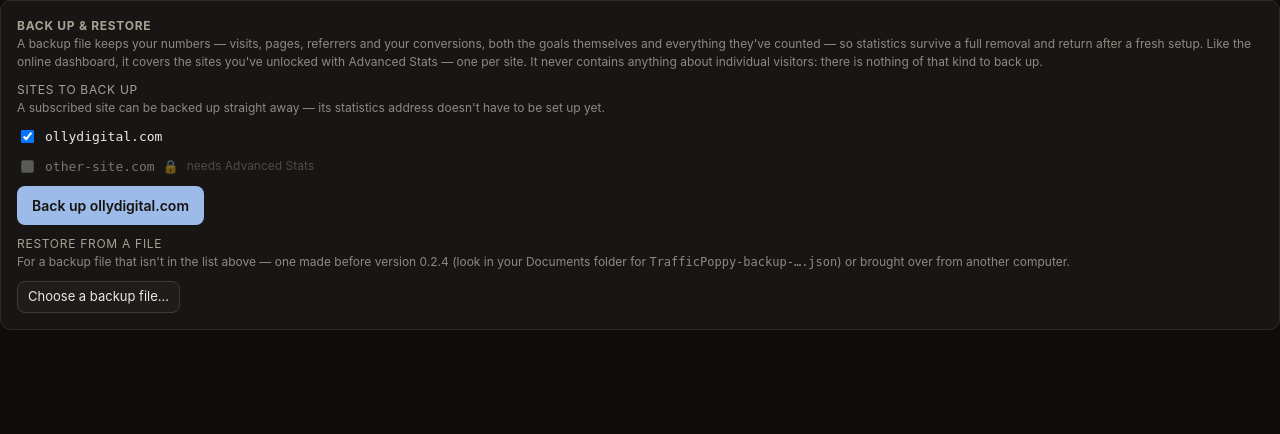
Test: Back up & restore › shows the saved path with a copy button
What coordinates should you click on to do the following:
click the button "Back up ollydigital.com"
I would click on:
 (110, 206)
Its box is top-left (17, 186), bottom-right (204, 225).
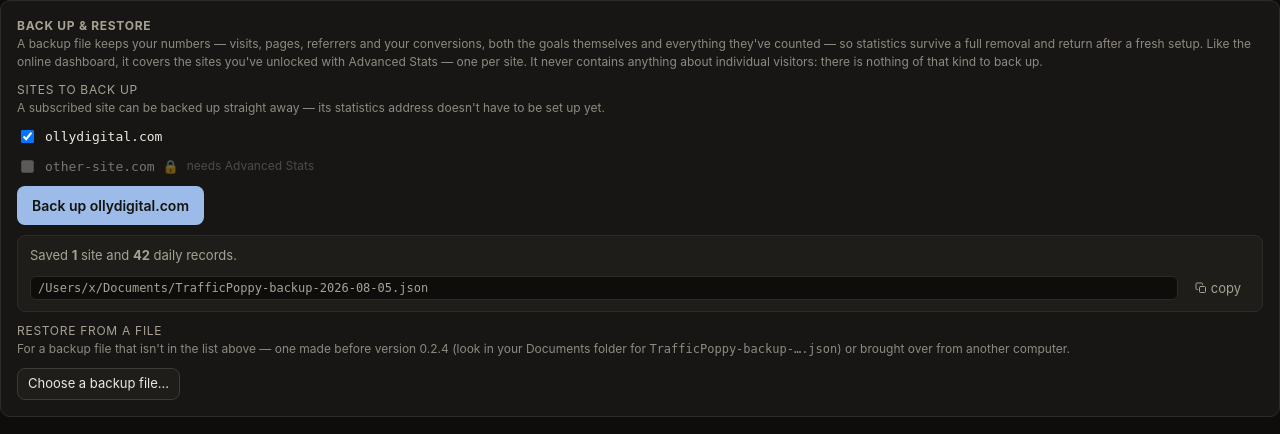
Expected: the text "42" is shown, top-left (133, 247), bottom-right (150, 263)
Expected: the text "/Users/x/Documents/TrafficPoppy-backup-2026-08-05.json" is shown, top-left (30, 276), bottom-right (1178, 300)
Expected: the button "copy" is shown, top-left (1186, 276), bottom-right (1250, 301)
